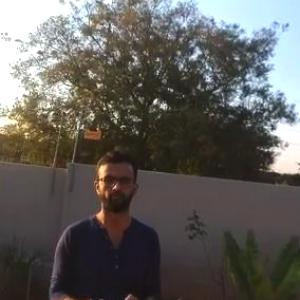follow: (52, 145, 176, 299)
